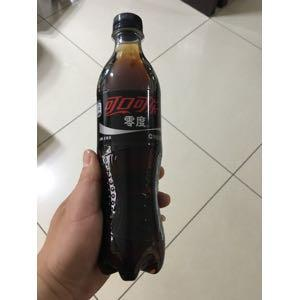coke_zero: (93, 11, 168, 284)
